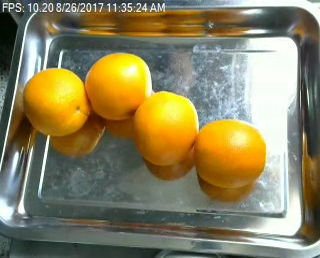Orange: (134, 88, 197, 166), (195, 119, 267, 186), (84, 52, 151, 120), (24, 67, 90, 136)
